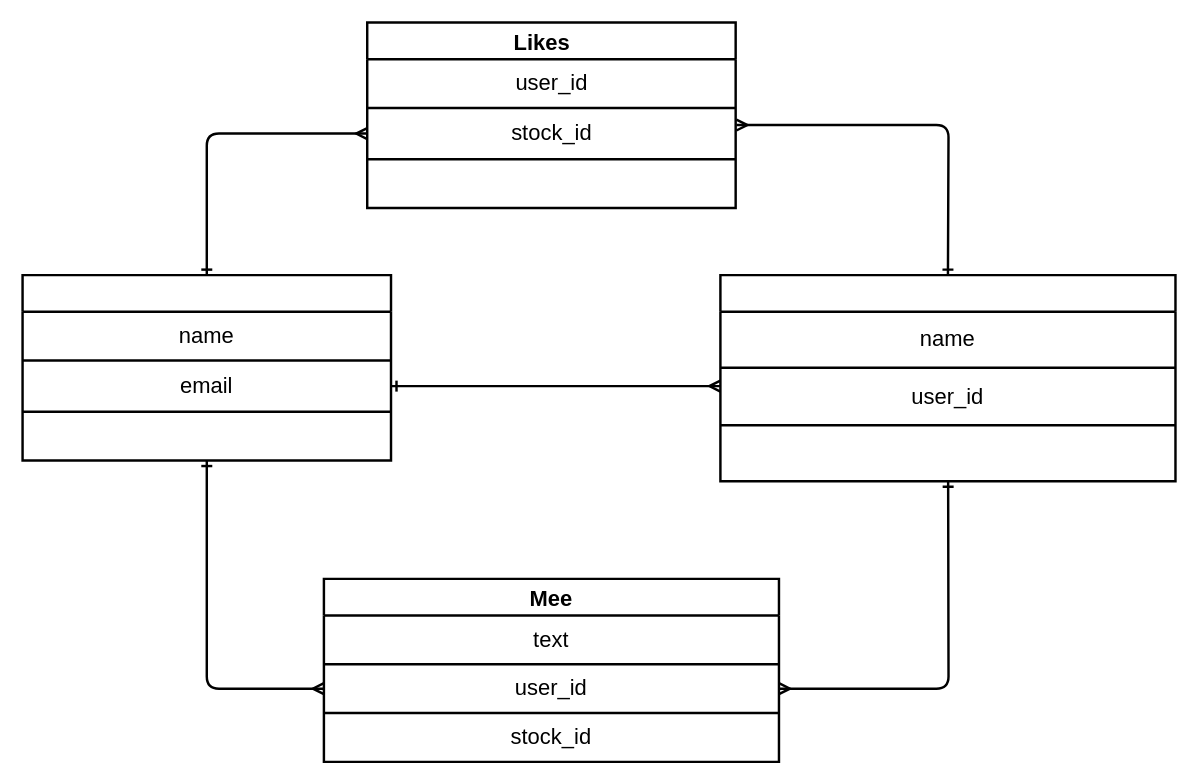
This 1197x783 diagram has some shape labels left out. Each missing label, with the box of its shape:
Stock: (719, 273, 1176, 482)
User: (21, 273, 392, 461)
